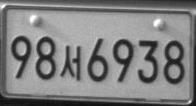3: (137, 39, 159, 84)
6: (86, 37, 108, 81)
8: (34, 35, 57, 80), (162, 39, 185, 84)
9: (111, 37, 134, 82), (9, 34, 31, 79)
서: (59, 44, 82, 82)
